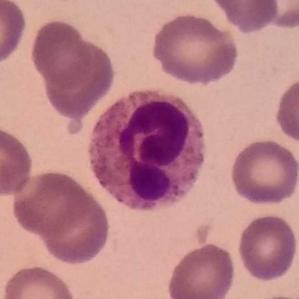Neutrophil: (82, 86, 210, 216)
RBC: (149, 11, 241, 85), (36, 179, 113, 267), (40, 36, 117, 118), (10, 168, 93, 238), (227, 136, 299, 206), (28, 17, 95, 88), (235, 212, 299, 282), (164, 241, 238, 299), (0, 263, 78, 299), (0, 121, 36, 198), (208, 0, 281, 34), (272, 74, 299, 146), (0, 0, 28, 68), (251, 0, 299, 30)
